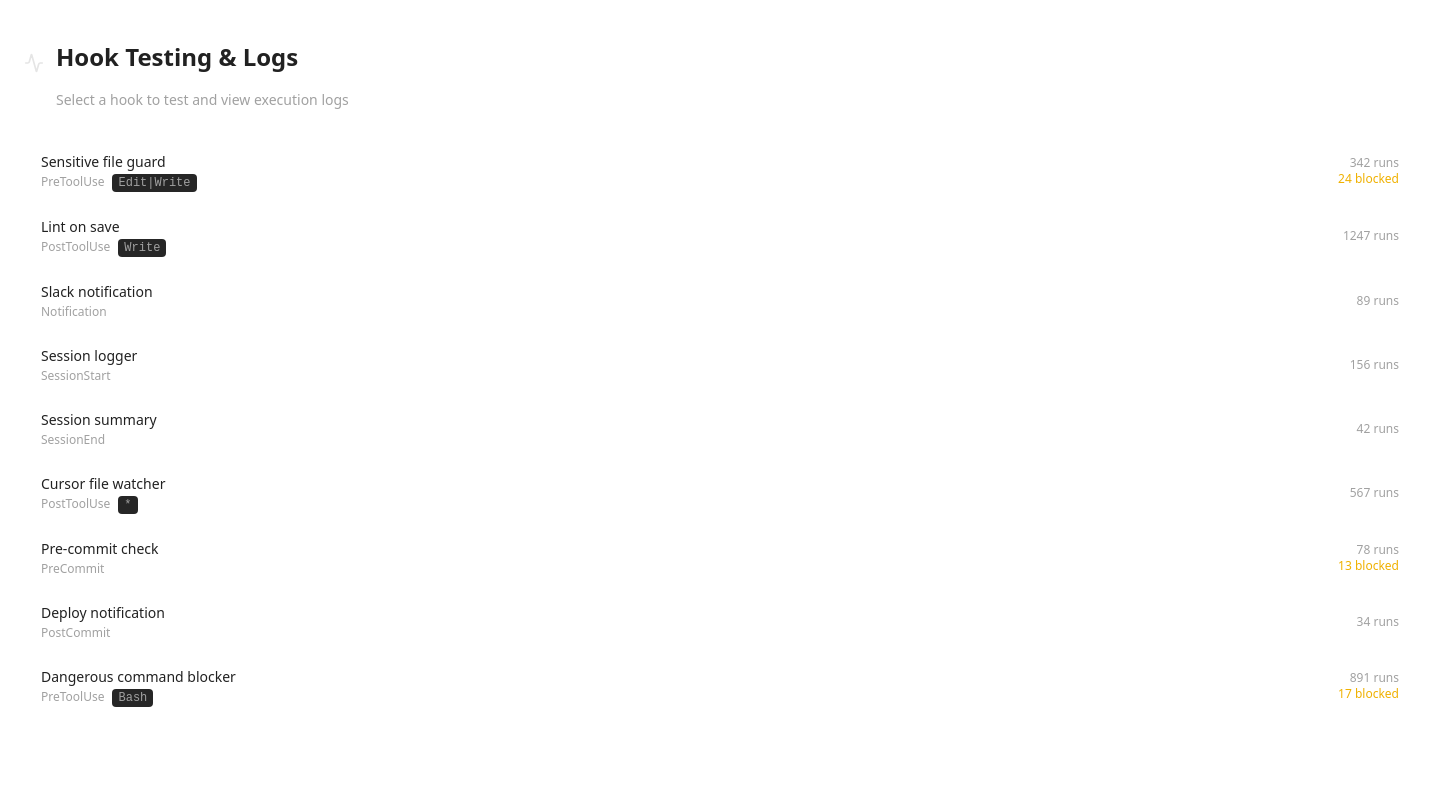
Test case: HookTestingPage › should show clear logs button
Click the text "Sensitive file guard": x=103, y=161 x1=41 y1=152 x2=166 y2=171
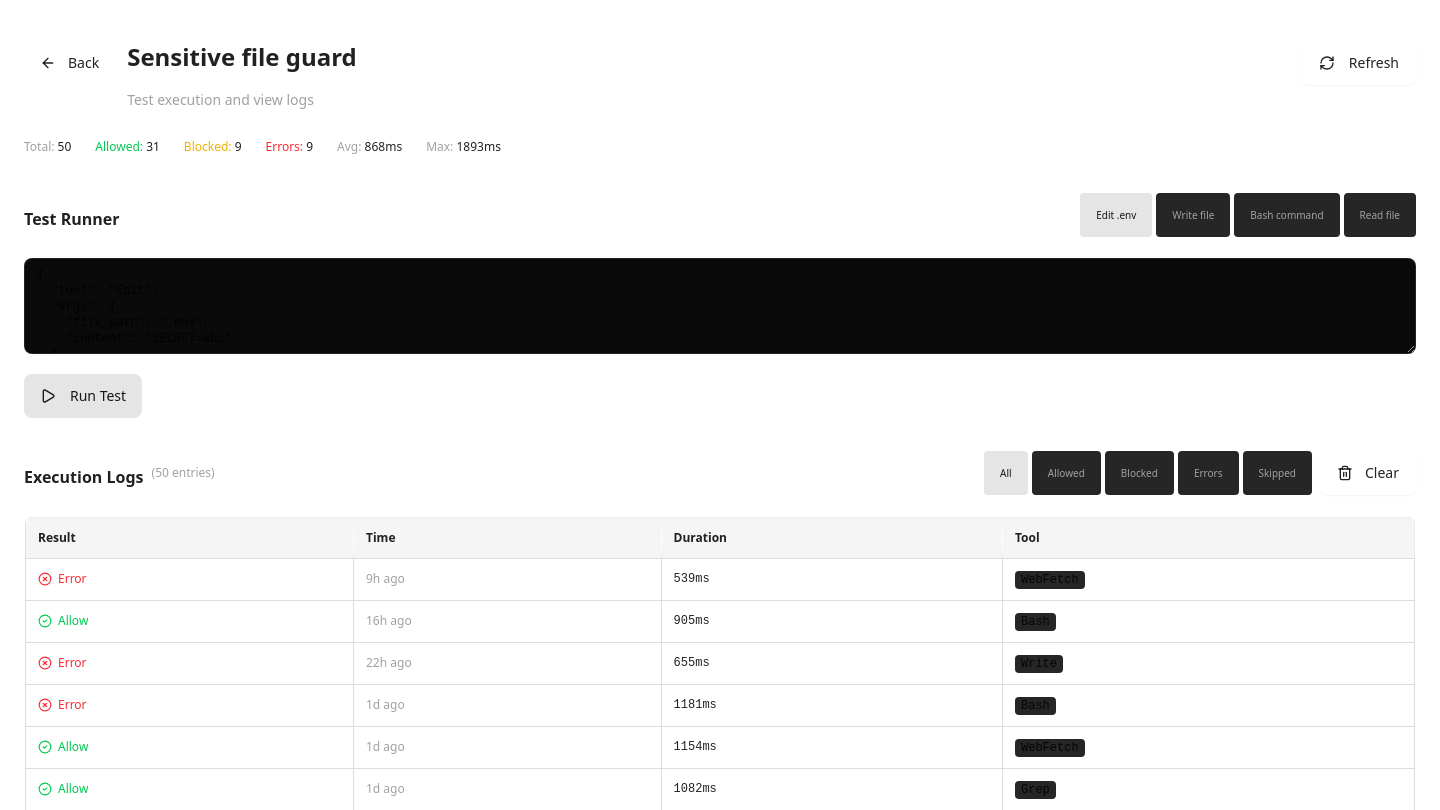
Expected: the button named "clear logs" is shown, x1=1320 y1=451 x2=1416 y2=495
